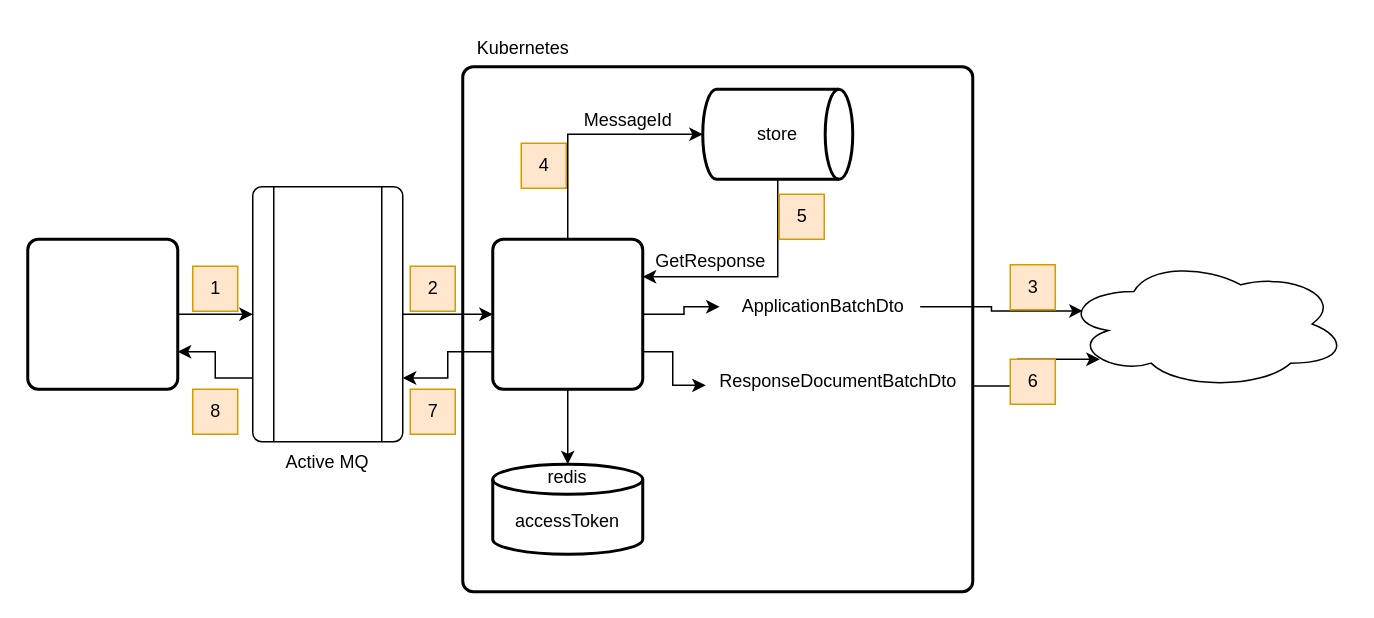
This 1374x618 diagram has some shape labels left out. Each missing label, with the centre of its shape:
3CardR: [102,313]
adapter.fns.inn: [567,313]
FNS: [1204,323]
